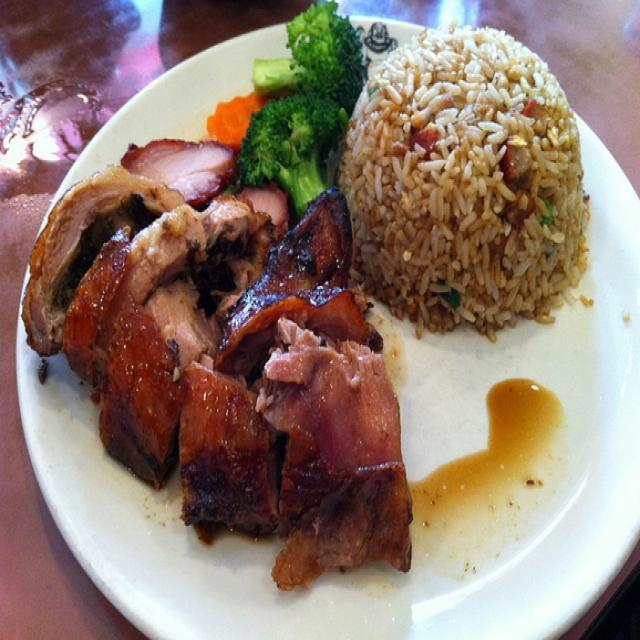烧串烤肉: (20, 18, 621, 613)
